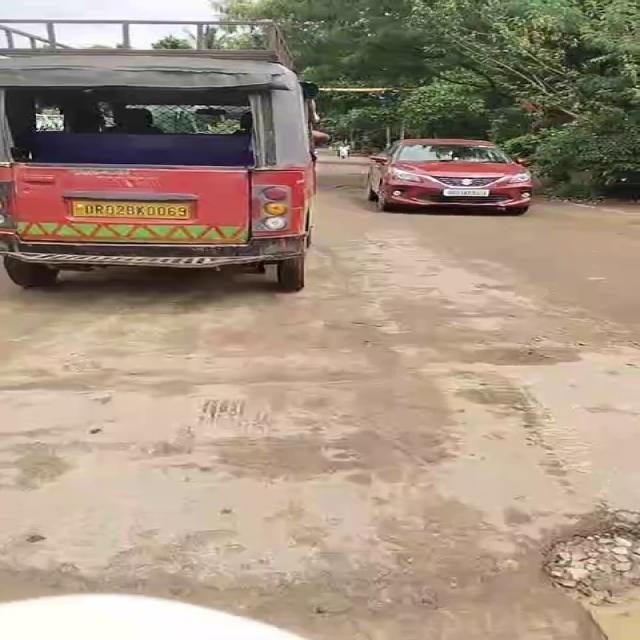pothole: (528, 535, 640, 603)
